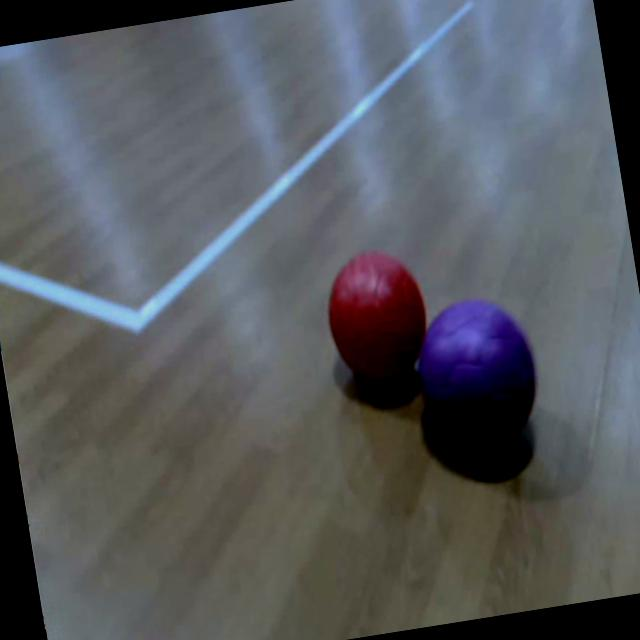purple_ball: (406, 290, 544, 452)
red_ball: (319, 245, 438, 388)
